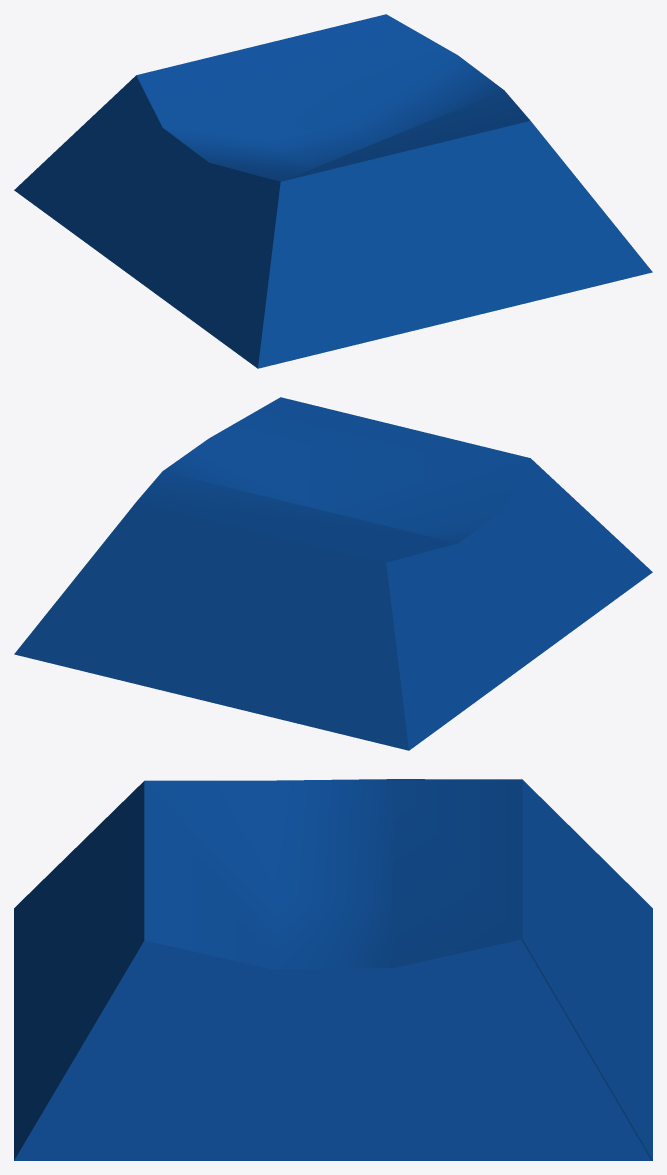
File: Dog Bowl Textured.fbx
3 renders of one model, top to bottom at view 1: azimuth 30°, elevation 25°; view 2: azimuth 150°, elevation 25°; view 3: azimuth 270°, elevation 25°, orthographic. The views are drawn at different scales.
Parts seen in each view (by area): view 1: pCube1; view 2: pCube1; view 3: pCube1.
Part boxes in pixels (x1,y1,x2,y2): pCube1: (14,14,652,368); pCube1: (14,397,652,750); pCube1: (14,779,652,1160).
Bounding box in the file's own units: 1.03 × 0.3321 × 1.1.
Materials: 1 (1 with a texture image).
